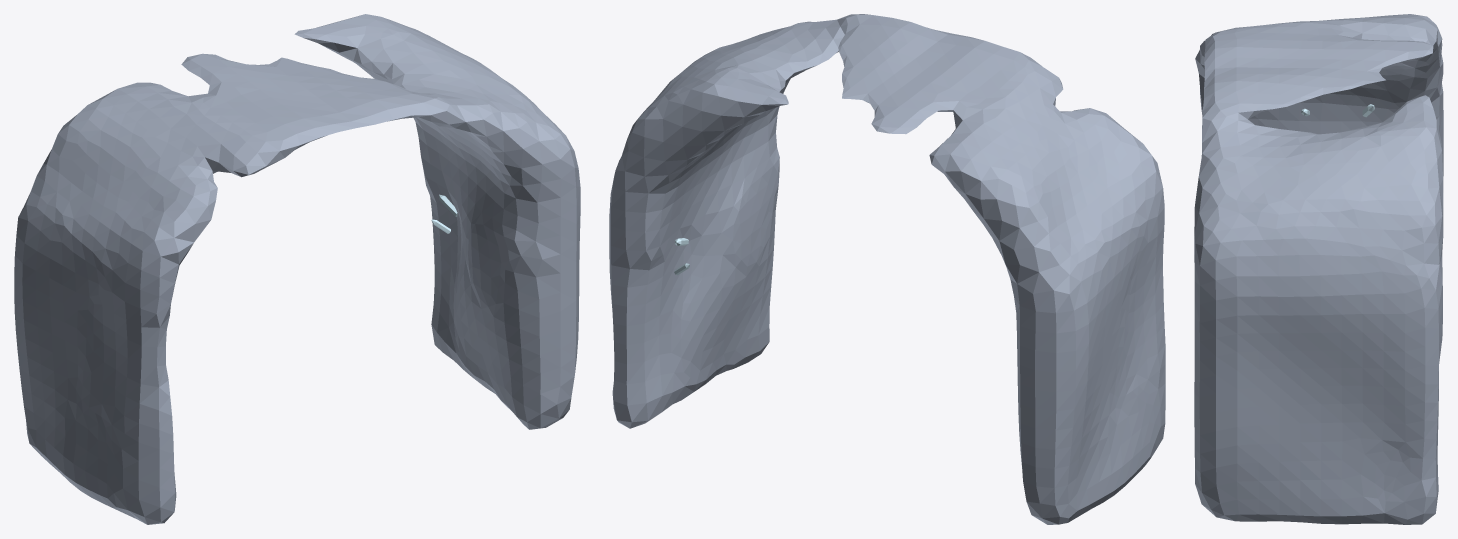
The model's file is MinecartMayhemCave.glb.
3 renders of one model, left to right at view 1: azimuth 30°, elevation 25°; view 2: azimuth 150°, elevation 25°; view 3: azimuth 270°, elevation 25°, orthographic. The views are drawn at different scales.
Parts seen in each view (by area): view 1: Rock; view 2: Rock; view 3: Rock.
Part boxes in pixels (x1,y1,x2,y2): Rock: (14,14,580,524); Rock: (609,14,1165,524); Rock: (1194,14,1443,524).
Bounding box in the file's own units: 118 × 88.63 × 55.27.
